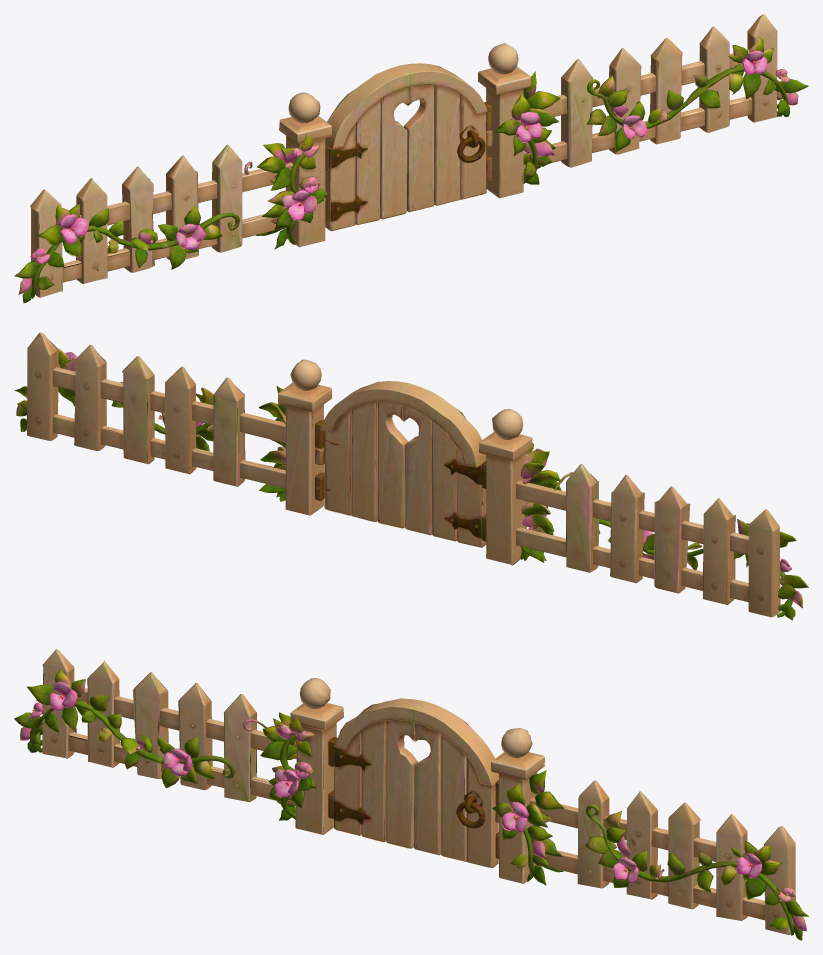
File: fencegate.glb
3 views of the same model, one above another, from view 1: azimuth 30°, elevation 25°; view 2: azimuth 150°, elevation 25°; view 3: azimuth 330°, elevation 25° (orthographic).
Visible parts, largest first — view 1: geometry_0; view 2: geometry_0; view 3: geometry_0.
Part boxes in pixels (x1,y1,x2,y2): geometry_0: (14,14,808,303); geometry_0: (14,332,808,620); geometry_0: (14,649,808,940).
Bounding box in the file's own units: 0.9634 × 0.1699 × 0.0557.
1 material, 1 textured.
